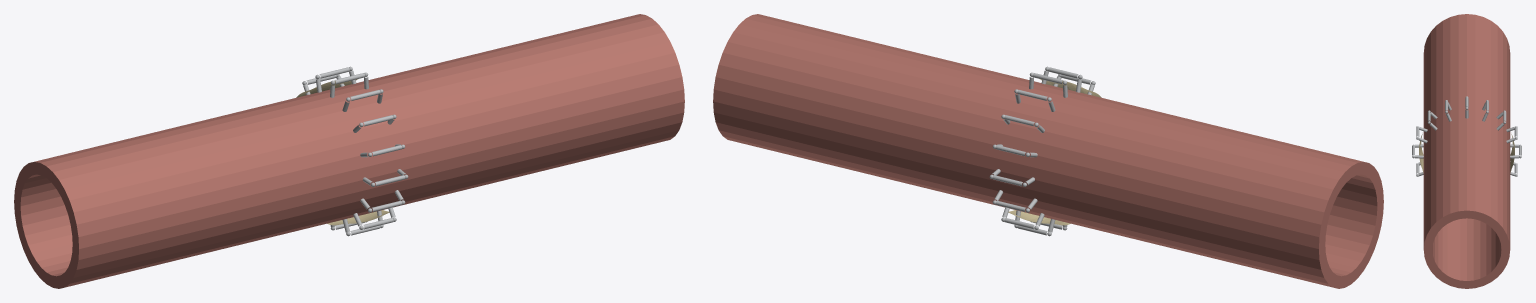
Rendered from dranmar_hollow_tissue_completed.glb.
3 views of the same model, side by side, from view 1: azimuth 30°, elevation 25°; view 2: azimuth 150°, elevation 25°; view 3: azimuth 270°, elevation 25° (orthographic). The views are drawn at different scales.
Parts seen in each view (by area): view 1: LeftTissue, RightTissue, ReinforcementCollar; view 2: LeftTissue, RightTissue, ReinforcementCollar; view 3: RightTissue, LeftTissue, ReinforcementCollar, FormedStaple_03, FormedStaple_13, FormedStaple_02, FormedStaple_04, FormedStaple_12, FormedStaple_14, FormedStaple_01, FormedStaple_15, FormedStaple_00.
Part boxes in pixels (x1,y1,x2,y2): LeftTissue: (14,88,384,288); RightTissue: (335,14,684,214); ReinforcementCollar: (296,79,389,225); LeftTissue: (1013,88,1383,288); RightTissue: (713,14,1062,214); ReinforcementCollar: (1008,79,1101,225); RightTissue: (1423,113,1510,288); LeftTissue: (1423,14,1510,150); ReinforcementCollar: (1419,134,1514,172); FormedStaple_03: (1416,126,1427,143); FormedStaple_13: (1506,126,1517,143); FormedStaple_02: (1427,110,1437,130); FormedStaple_04: (1412,144,1423,158); FormedStaple_12: (1510,144,1521,158); FormedStaple_14: (1496,110,1506,130); FormedStaple_01: (1445,100,1451,121); FormedStaple_15: (1482,100,1488,121); FormedStaple_00: (1465,96,1468,118).
Bounding box in the file's own units: 0.129 × 0.0304 × 0.0304.
